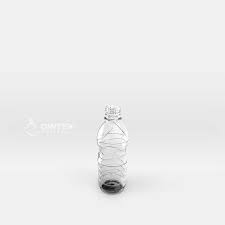Botella: (97, 107, 128, 192)
